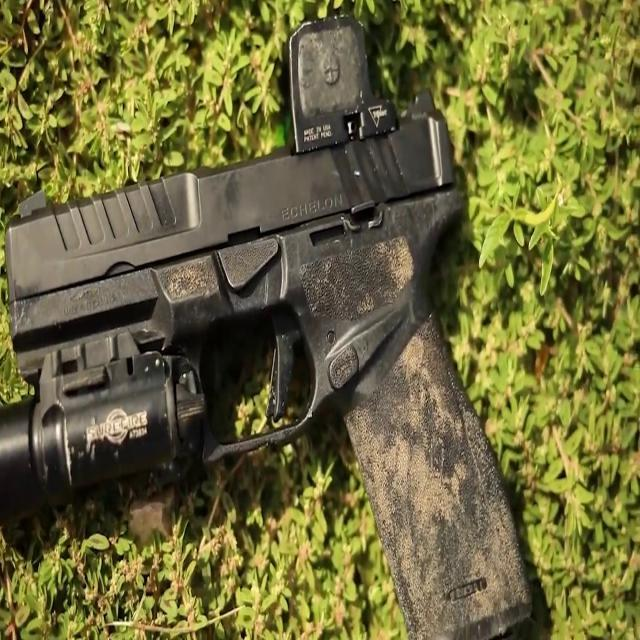Handgun: (0, 35, 546, 640)
